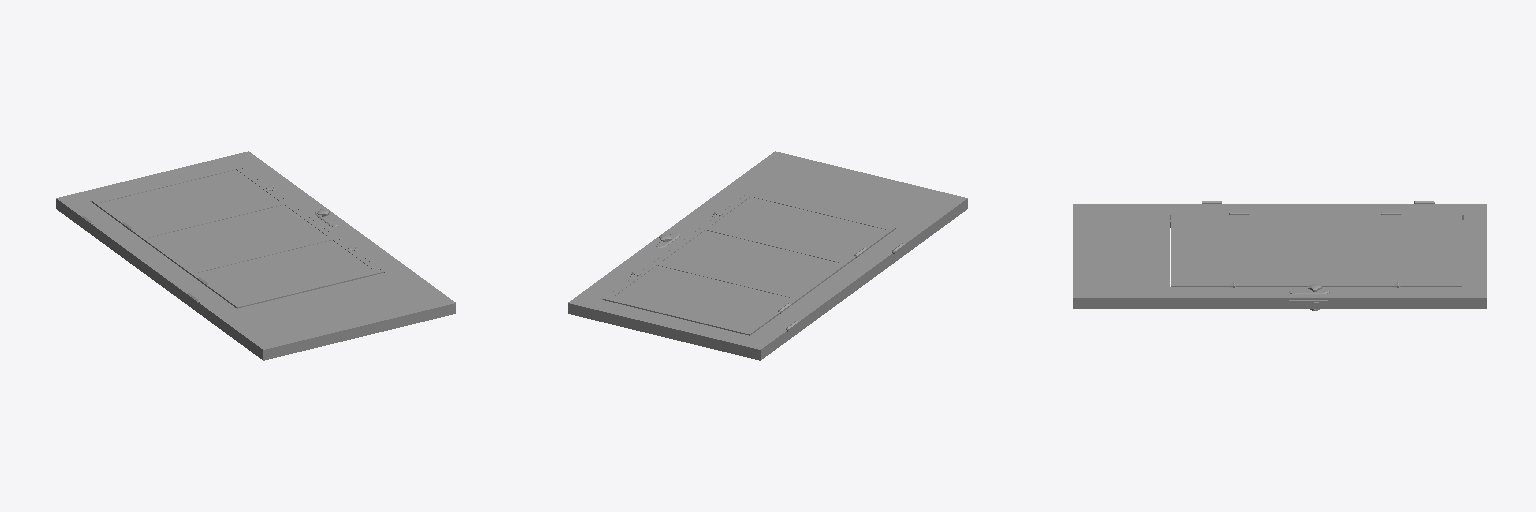
File: door.obj
3 renders of one model, left to right at view 1: azimuth 30°, elevation 25°; view 2: azimuth 150°, elevation 25°; view 3: azimuth 270°, elevation 25°, orthographic.
Parts seen in each view (by area): view 1: porta_Cube.002, vidro_Cube.000, grade_Cube.001; view 2: porta_Cube.002, vidro_Cube.000, grade_Cube.001; view 3: porta_Cube.002, vidro_Cube.000, grade_Cube.001, coisas_Cube.003.
Boxes of the visible parts, <box> form: porta_Cube.002: <box>56,151,455,360</box>; vidro_Cube.000: <box>102,170,373,302</box>; grade_Cube.001: <box>92,165,383,308</box>; porta_Cube.002: <box>568,151,967,360</box>; vidro_Cube.000: <box>613,197,884,329</box>; grade_Cube.001: <box>603,192,894,335</box>; porta_Cube.002: <box>1073,204,1486,308</box>; vidro_Cube.000: <box>1179,217,1454,282</box>; grade_Cube.001: <box>1171,214,1461,286</box>; coisas_Cube.003: <box>1202,201,1434,310</box>.
Size of the model in its own units: 10.44 by 1.22 by 19.14.